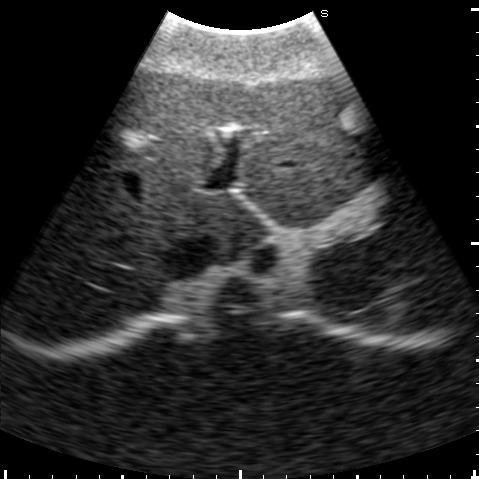IVC: (160, 235, 220, 278)
S1: (202, 195, 269, 260)
S2: (241, 148, 399, 229)
S3: (230, 68, 391, 198)
Tumor: (339, 102, 372, 133)
